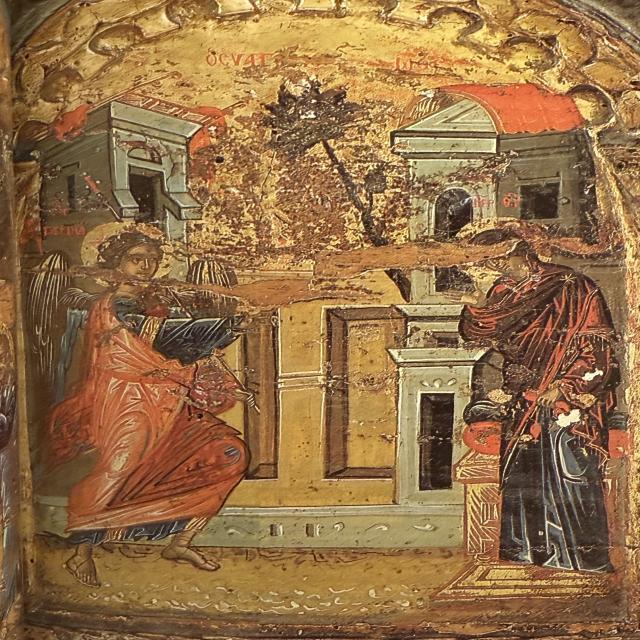angel: (26, 220, 274, 589)
aura: (451, 219, 555, 287), (83, 223, 175, 286)
mary: (444, 218, 634, 606)
scepter: (211, 348, 272, 421)
wing: (33, 250, 85, 404), (186, 258, 238, 318)
